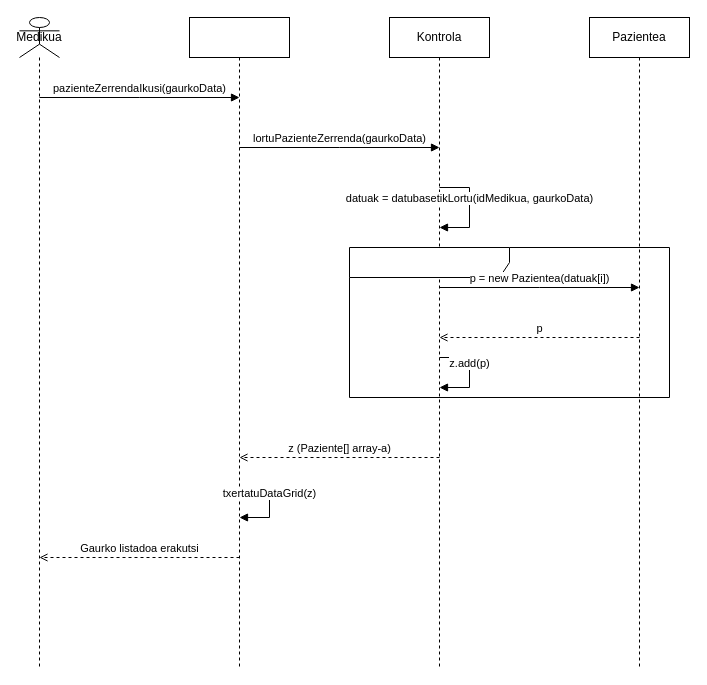
Some shapes in this 707 by 685 pixel diagram are drawn without their labels. Each missing label, with the box of its shape:
Interfazea: (188, 16, 290, 668)
loop [i = 0 .. count(datuak)]: (348, 246, 670, 398)
